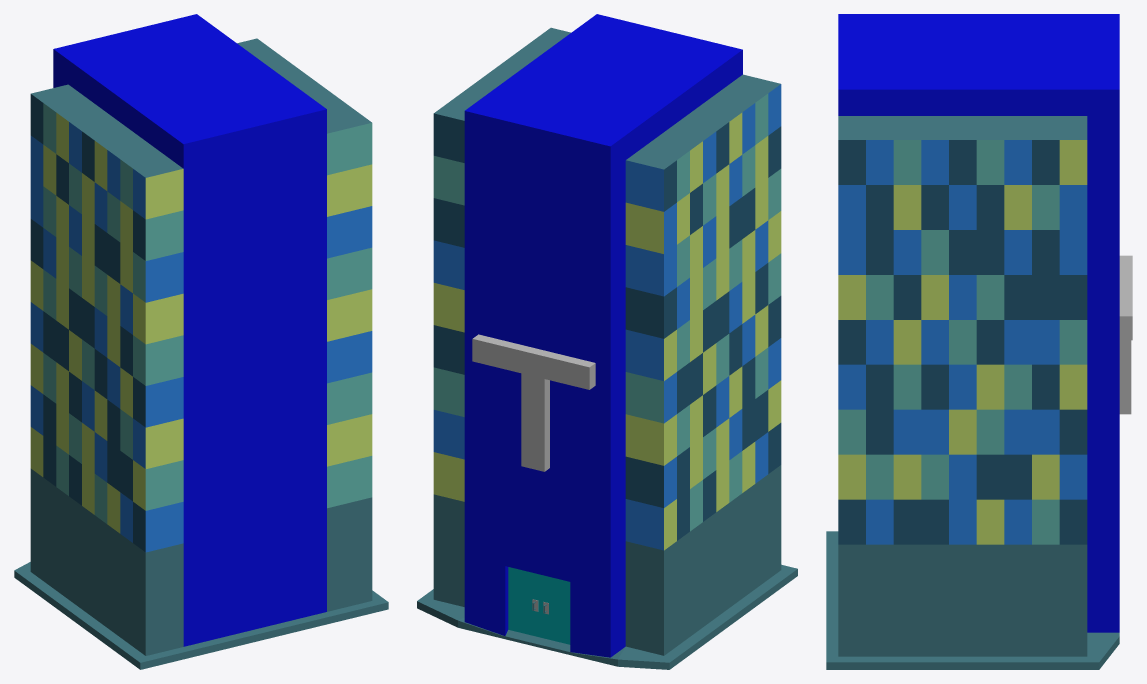
The model's file is Building 8 A3.fbx.
3 views of the same model, side by side, from view 1: azimuth 30°, elevation 25°; view 2: azimuth 150°, elevation 25°; view 3: azimuth 270°, elevation 25° (orthographic). The views are drawn at different scales.
Visible parts, largest first — view 1: Cube; view 2: Cube; view 3: Cube.
Boxes of the visible parts, left/top/right/bottom form: Cube: left=14, top=14, right=388, bottom=669; Cube: left=417, top=14, right=797, bottom=669; Cube: left=826, top=14, right=1132, bottom=669.
Bounding box in the file's own units: 530 × 1041 × 524.
